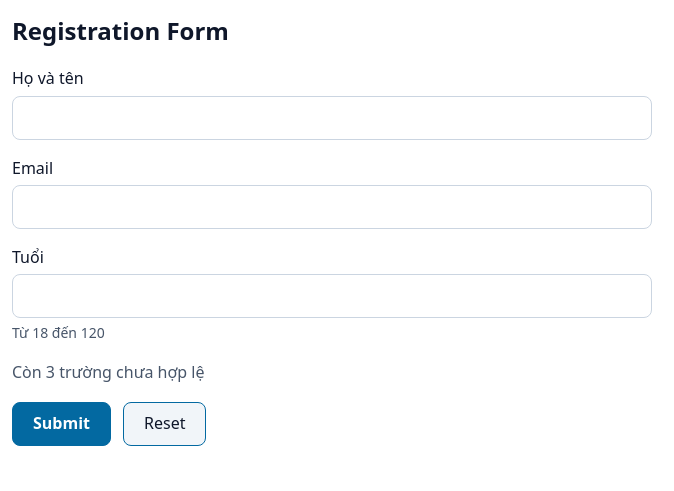
Test: Sprint 2 — Context form engine › shows an accessible error after blur (aria-invalid + aria-describedby)
The width and height of the screenshot is (674, 491).
Type "abc" into the field labelled "Email" at (332, 207), box [12,185,652,229]
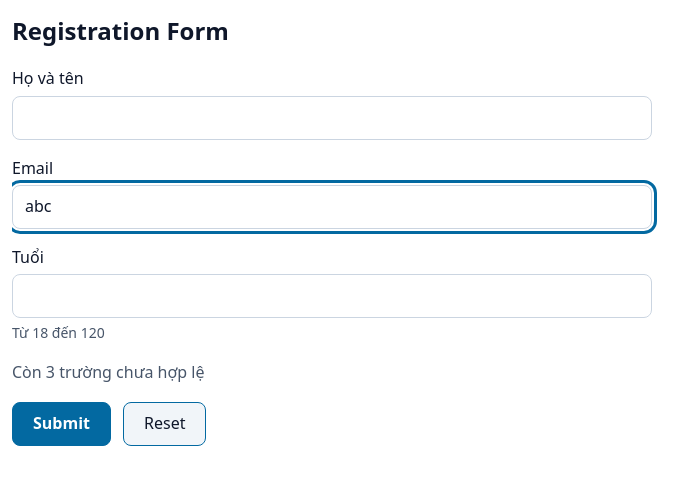
Press Tab
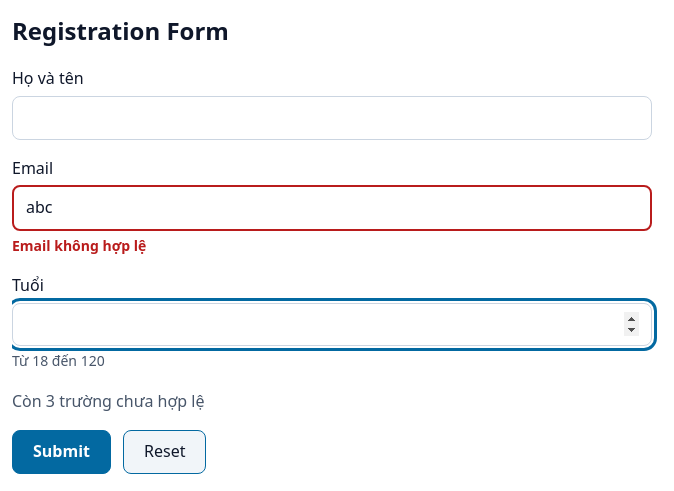
expect the field labelled "Email" is marked as invalid: met, box [12,185,652,231]
